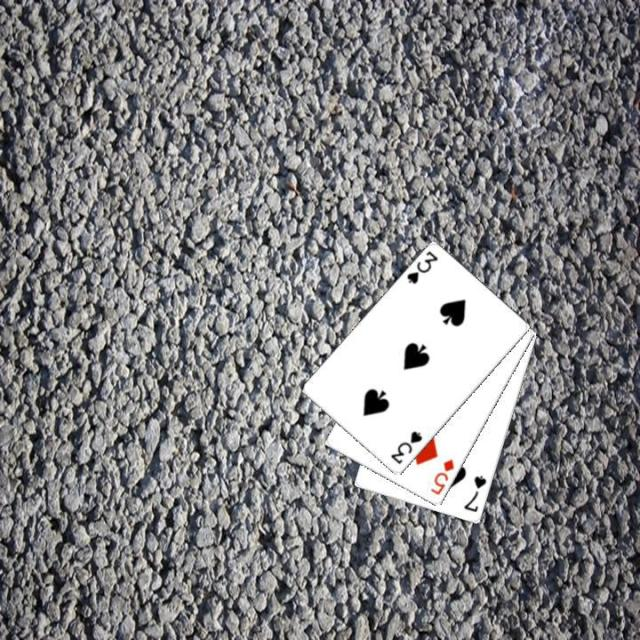3S: (403, 247, 440, 286), (387, 428, 424, 466)
5D: (427, 455, 456, 497)
7S: (460, 472, 488, 515)
